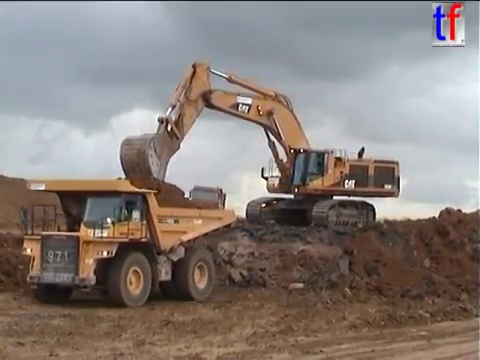excavator: (117, 59, 402, 237)
truck: (17, 177, 238, 309), (186, 184, 228, 226)
